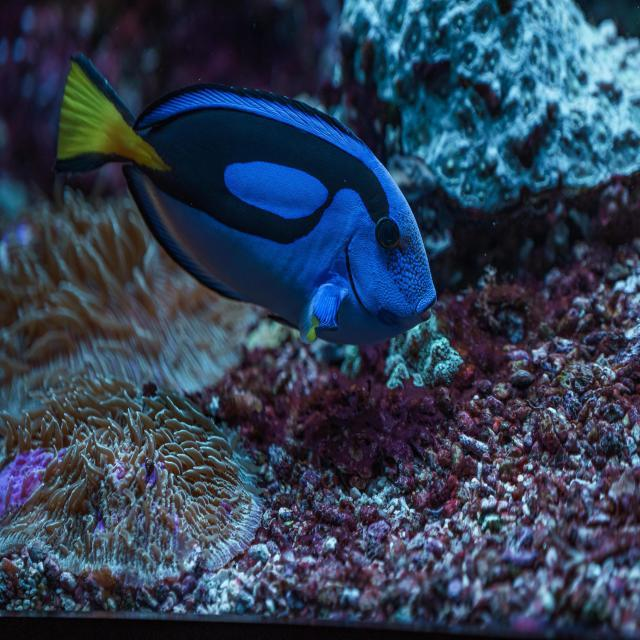BlueTang: (64, 80, 437, 340)
